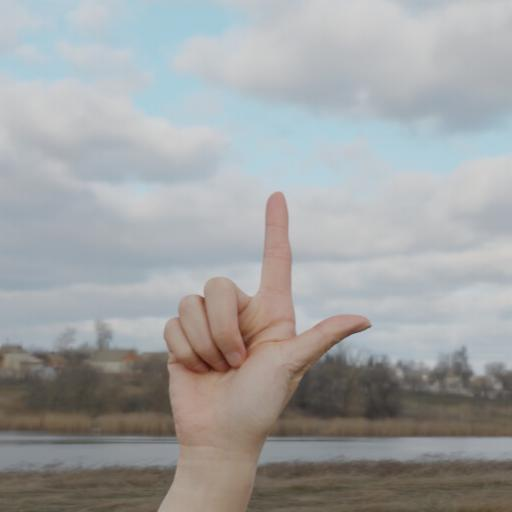L: (143, 174, 381, 512)
